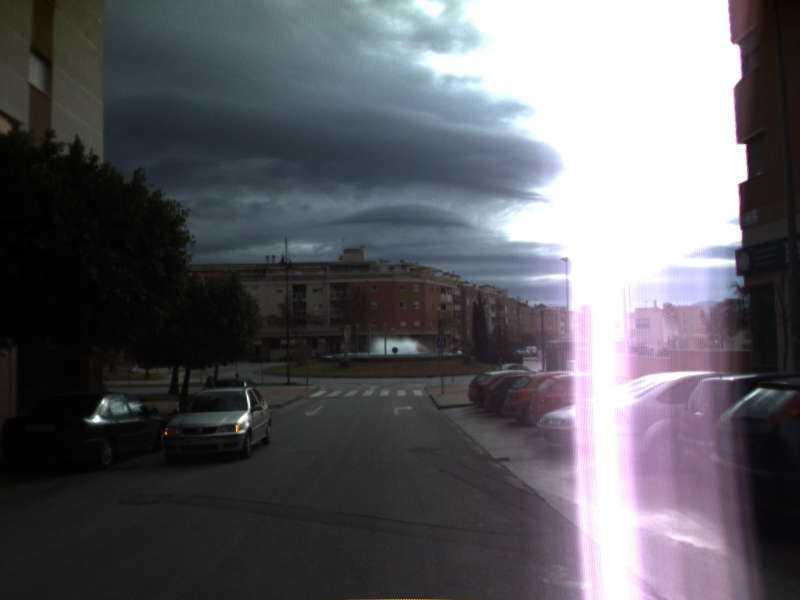RIGHT: (391, 403, 416, 417)
